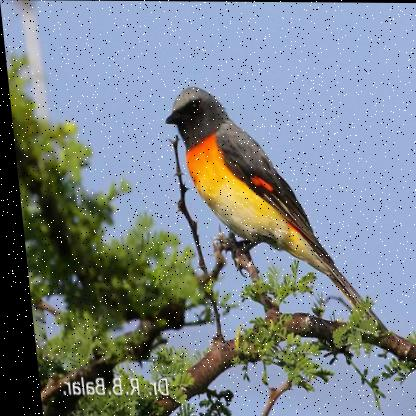Burung: (160, 86, 382, 332)
